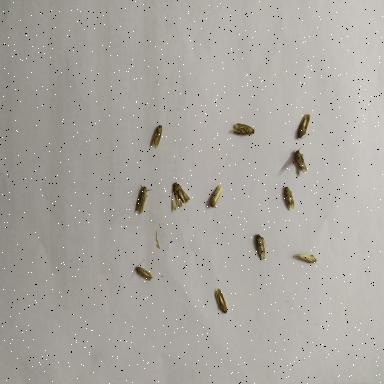pbw: (168, 178, 192, 214), (127, 256, 154, 288), (131, 182, 153, 218), (291, 110, 314, 142), (290, 144, 310, 178), (252, 230, 270, 264), (212, 284, 230, 318), (148, 121, 166, 155), (226, 118, 256, 138), (292, 248, 318, 270), (206, 182, 224, 212), (280, 184, 296, 214)
